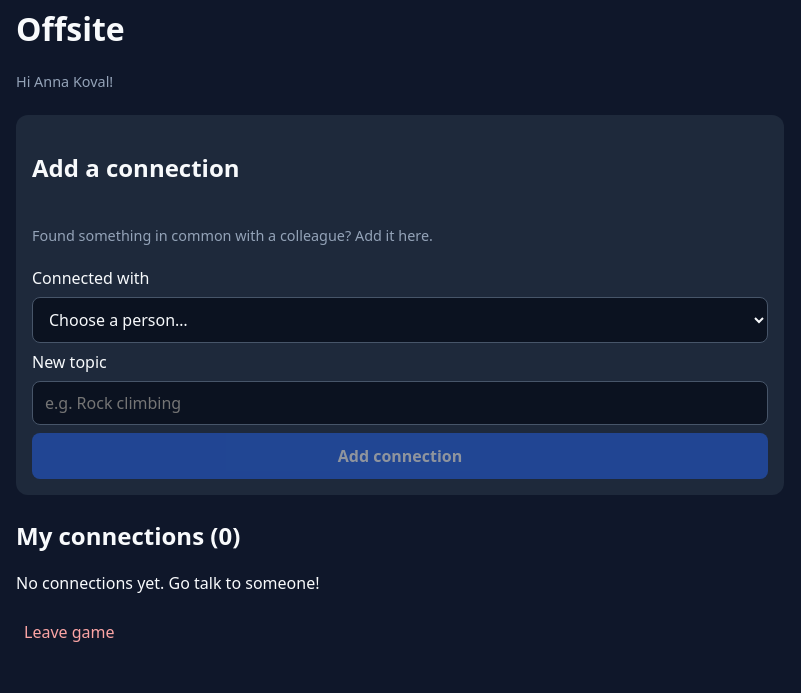
it: typing a new topic while others add topics › keeps the new-topic box and the typed text when the topic list appears
The image size is (801, 693).
Type "Rock climbing" into the field labelled "New topic". click: point(400, 403)
box: [32,381,768,425]
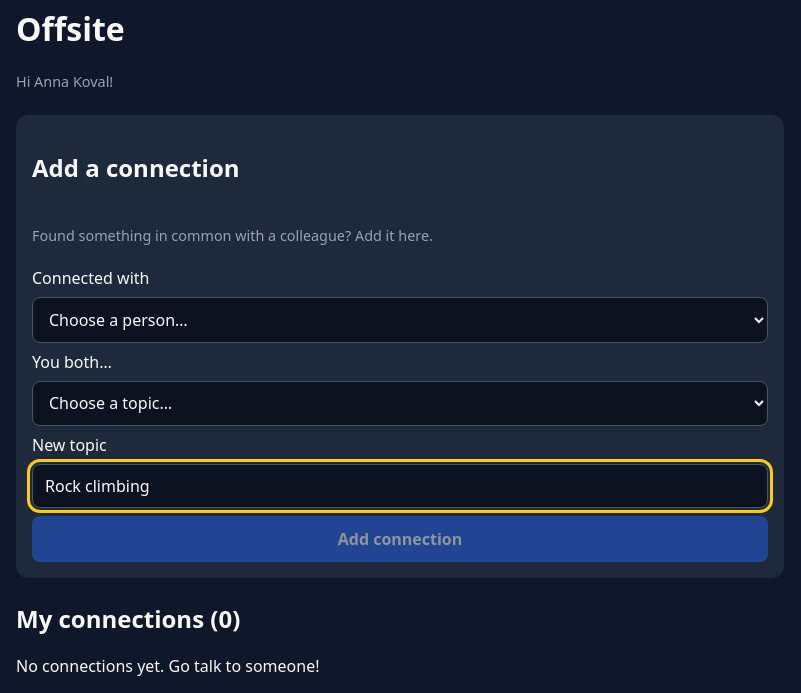
Expected: the dropdown labelled "You both…" is shown, [32,381,768,426]
